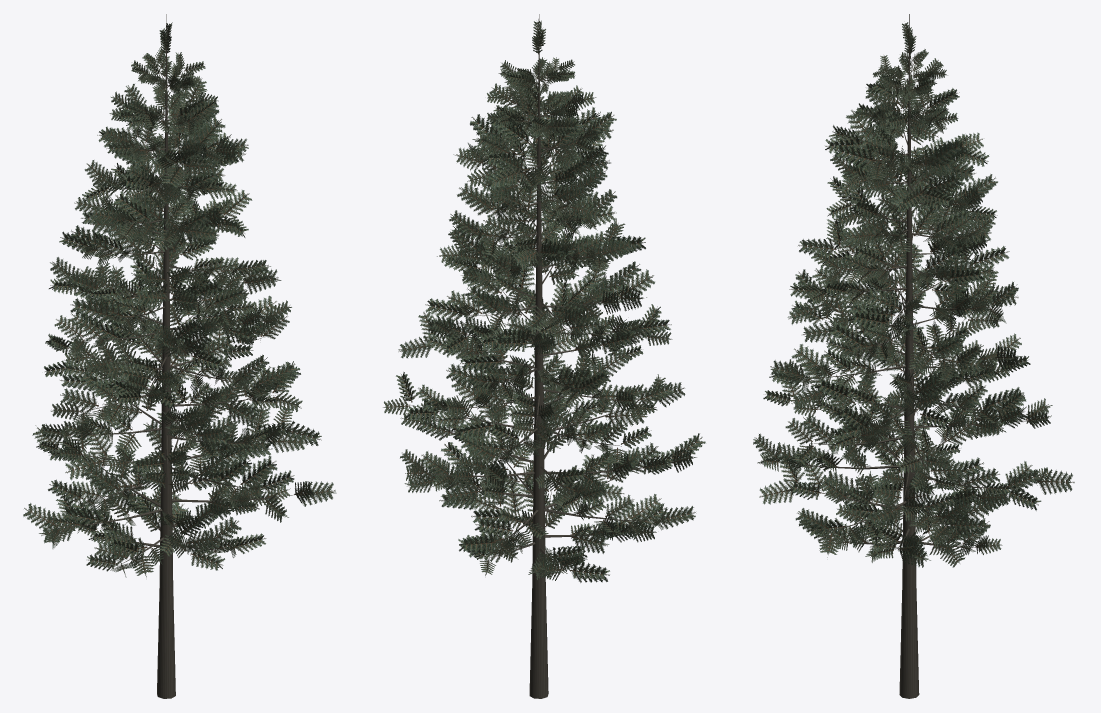
File: Sitka_Pole_01_LOD1.fbx
The picture shows the model from 3 angles, left to right: view 1: azimuth 30°, elevation 25°; view 2: azimuth 150°, elevation 25°; view 3: azimuth 270°, elevation 25°; orthographic projection.
Parts seen in each view (by area): view 1: Sitka_Pole_01_LOD1_Foliage, Sitka_Pole_01_LOD1_Trunk, Sitka_Pole_01_LOD1_Branches; view 2: Sitka_Pole_01_LOD1_Foliage, Sitka_Pole_01_LOD1_Trunk, Sitka_Pole_01_LOD1_Branches; view 3: Sitka_Pole_01_LOD1_Foliage, Sitka_Pole_01_LOD1_Trunk, Sitka_Pole_01_LOD1_Branches.
Part boxes in pixels (left/top/right/bottom): Sitka_Pole_01_LOD1_Foliage: left=23, top=22, right=336, bottom=577; Sitka_Pole_01_LOD1_Trunk: left=157, top=14, right=175, bottom=698; Sitka_Pole_01_LOD1_Branches: left=53, top=66, right=300, bottom=565; Sitka_Pole_01_LOD1_Foliage: left=383, top=20, right=705, bottom=582; Sitka_Pole_01_LOD1_Trunk: left=529, top=14, right=548, bottom=698; Sitka_Pole_01_LOD1_Branches: left=408, top=69, right=671, bottom=569; Sitka_Pole_01_LOD1_Foliage: left=753, top=22, right=1074, bottom=567; Sitka_Pole_01_LOD1_Trunk: left=899, top=14, right=919, bottom=698; Sitka_Pole_01_LOD1_Branches: left=779, top=57, right=1029, bottom=549.
Size of the model in its own units: 363 by 800 by 364.
